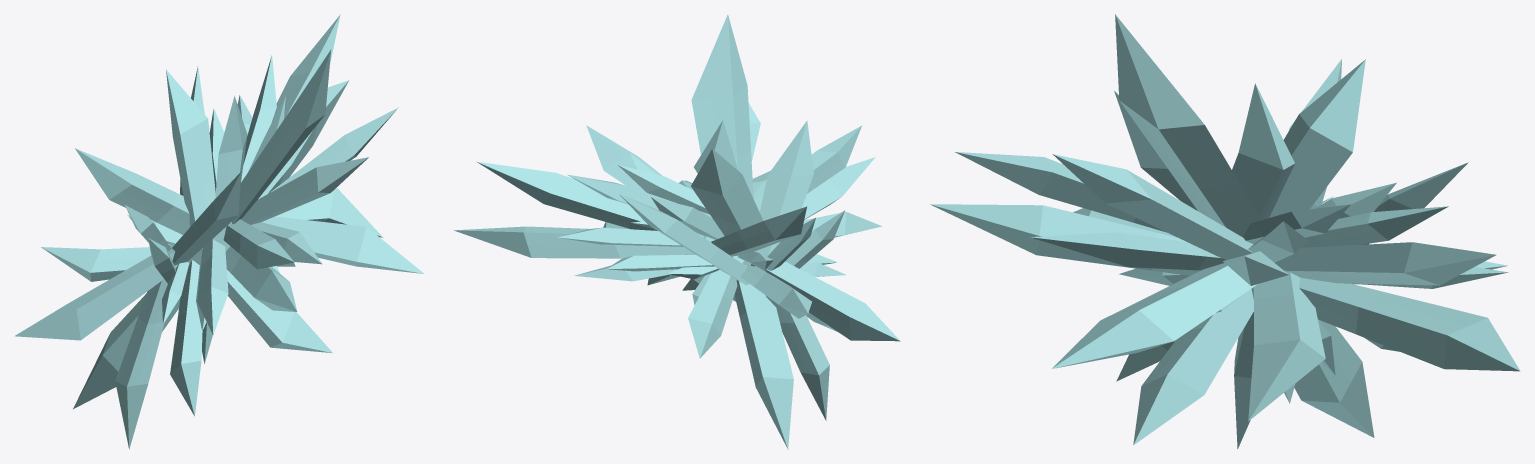
File: IceCrystals_2.fbx
3 views of the same model, side by side, from view 1: azimuth 30°, elevation 25°; view 2: azimuth 150°, elevation 25°; view 3: azimuth 270°, elevation 25° (orthographic). The views are drawn at different scales.
Visible parts, largest first — view 1: IceCrystal_2; view 2: IceCrystal_2; view 3: IceCrystal_2.
Boxes of the visible parts, x1,y1,x2,y2 form: IceCrystal_2: (14, 14, 424, 449); IceCrystal_2: (454, 14, 900, 449); IceCrystal_2: (930, 14, 1520, 448).
Size of the model in its own units: 1439 by 1282 by 1270.
